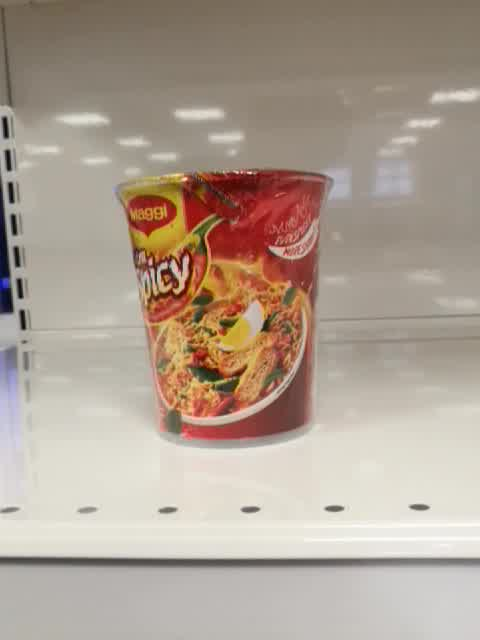maggi: (113, 168, 334, 450)
